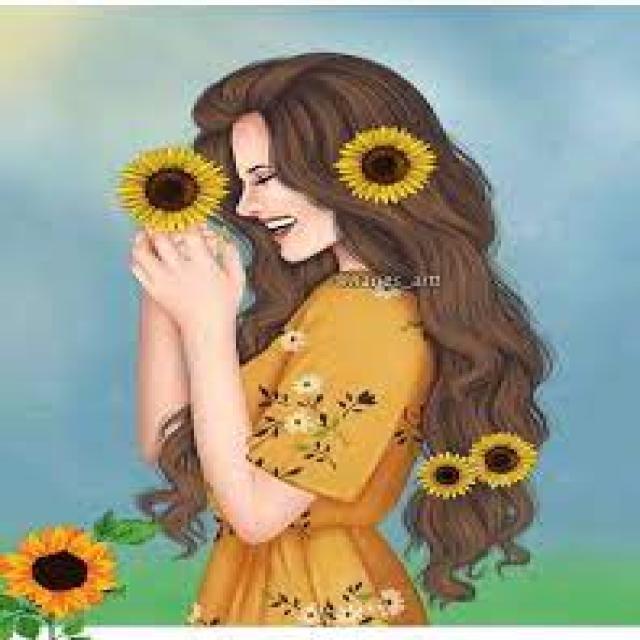sunflower: (0, 526, 116, 617), (113, 143, 230, 231), (333, 122, 436, 204), (466, 429, 536, 487), (414, 450, 476, 500)
